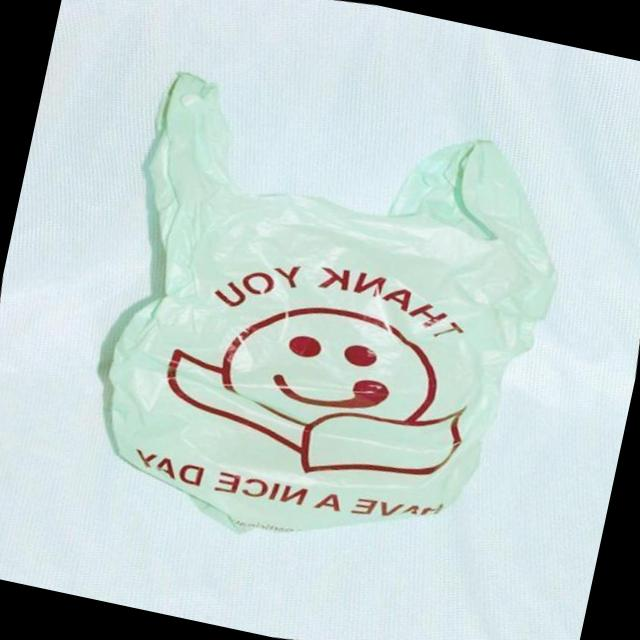KantongPlastik: (70, 64, 584, 584)
